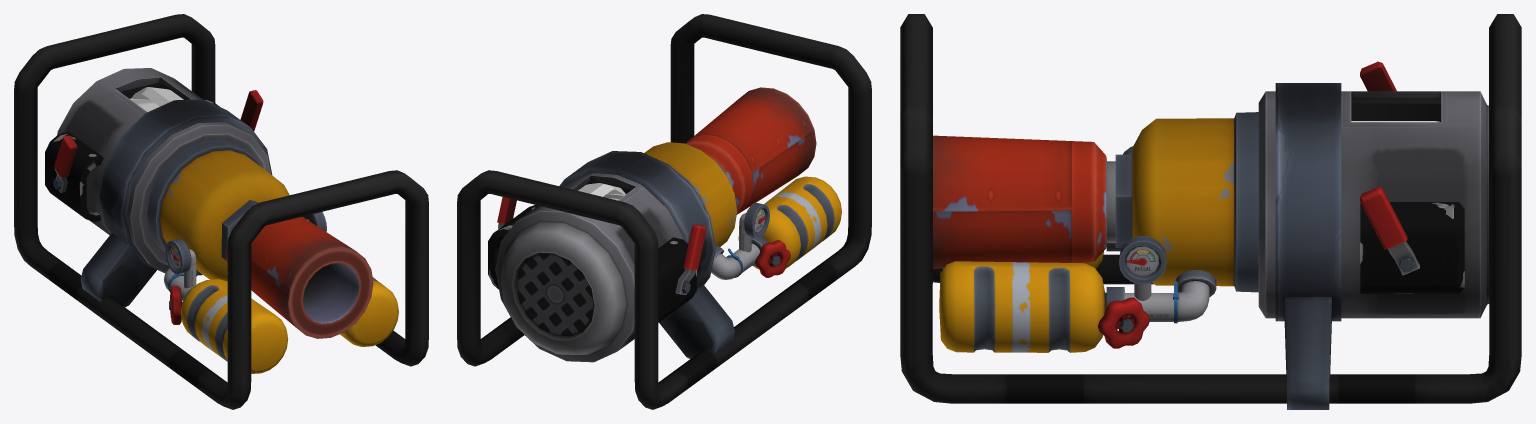
File: fant_chemicalcannon_1.obj
3 renders of one model, left to right at view 1: azimuth 30°, elevation 25°; view 2: azimuth 150°, elevation 25°; view 3: azimuth 270°, elevation 25°, orthographic. The views are drawn at different scales.
Visible parts, largest first — view 1: fant_chemicalcannon_Mesh.035; view 2: fant_chemicalcannon_Mesh.035; view 3: fant_chemicalcannon_Mesh.035.
Part boxes in pixels (x1,y1,x2,y2): fant_chemicalcannon_Mesh.035: (14, 14, 428, 409); fant_chemicalcannon_Mesh.035: (457, 14, 871, 409); fant_chemicalcannon_Mesh.035: (900, 14, 1521, 409).
Bounding box in the file's own units: 3.08 × 3.07 × 5.97.
